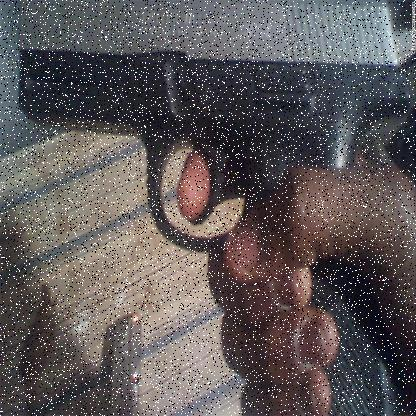pistol: (17, 1, 415, 415)
